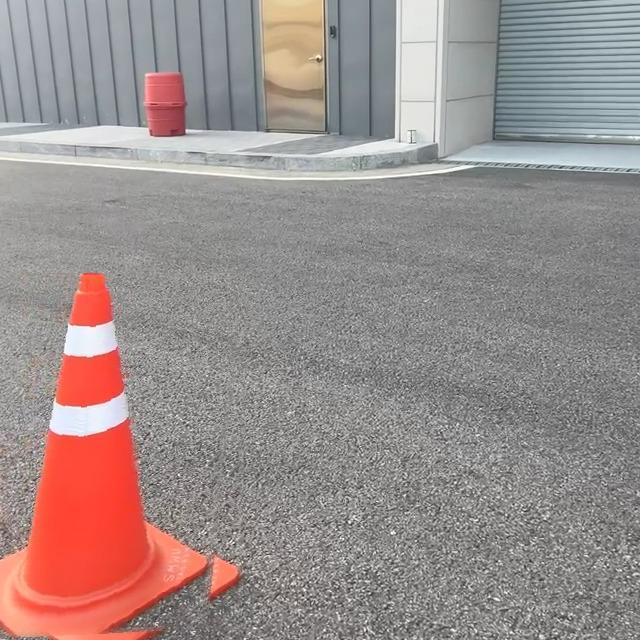fallen_object: (3, 229, 227, 640)
